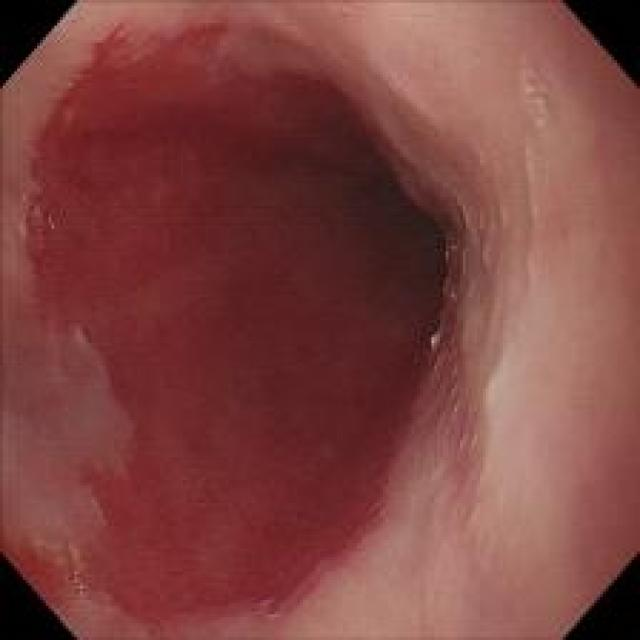blur: (8, 8, 634, 635)
bubbles: (515, 54, 554, 130)
color misalignment: (359, 51, 452, 144), (520, 84, 550, 131), (32, 209, 62, 250), (64, 559, 90, 599), (255, 595, 286, 624)
contrast: (332, 140, 460, 371)
